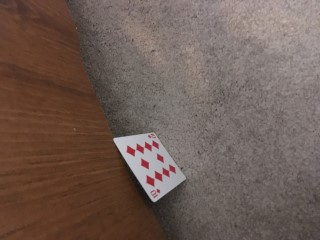TenOfDiamonds: (113, 132, 187, 202)
